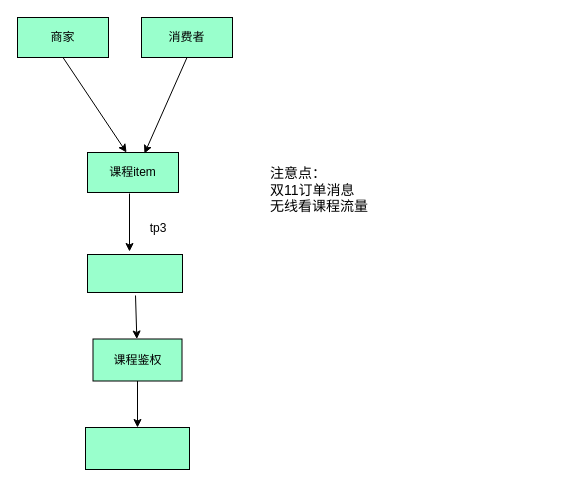
Image size: 569x487. Some labels were removed from this diagram. The centre of each missing label's shape, as x and y in pixels:
"在线学习，直播" belongs at (x=137, y=448).
"订单" belongs at (x=134, y=273).
